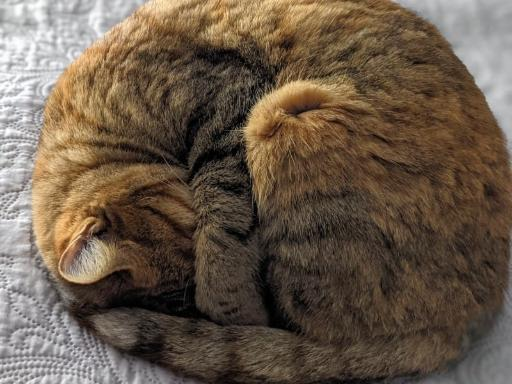cat_sleeping: (33, 0, 512, 383)
